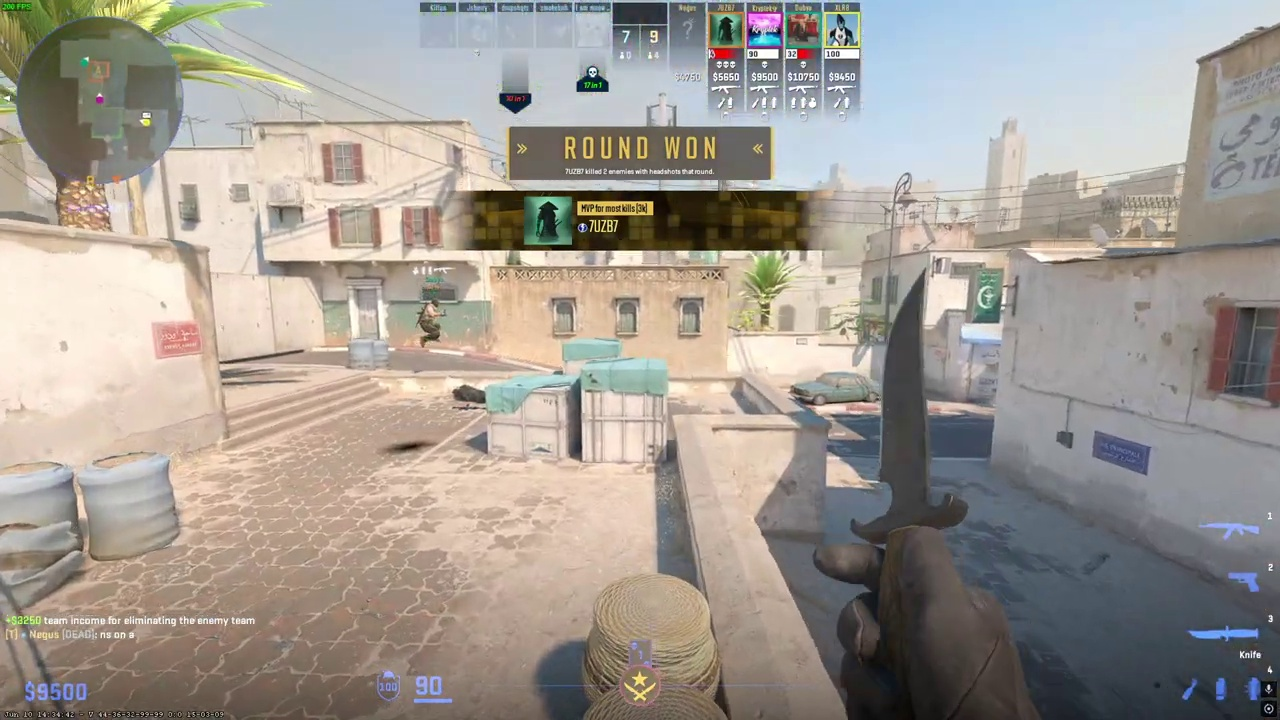Terrorist: (418, 299, 443, 346)
